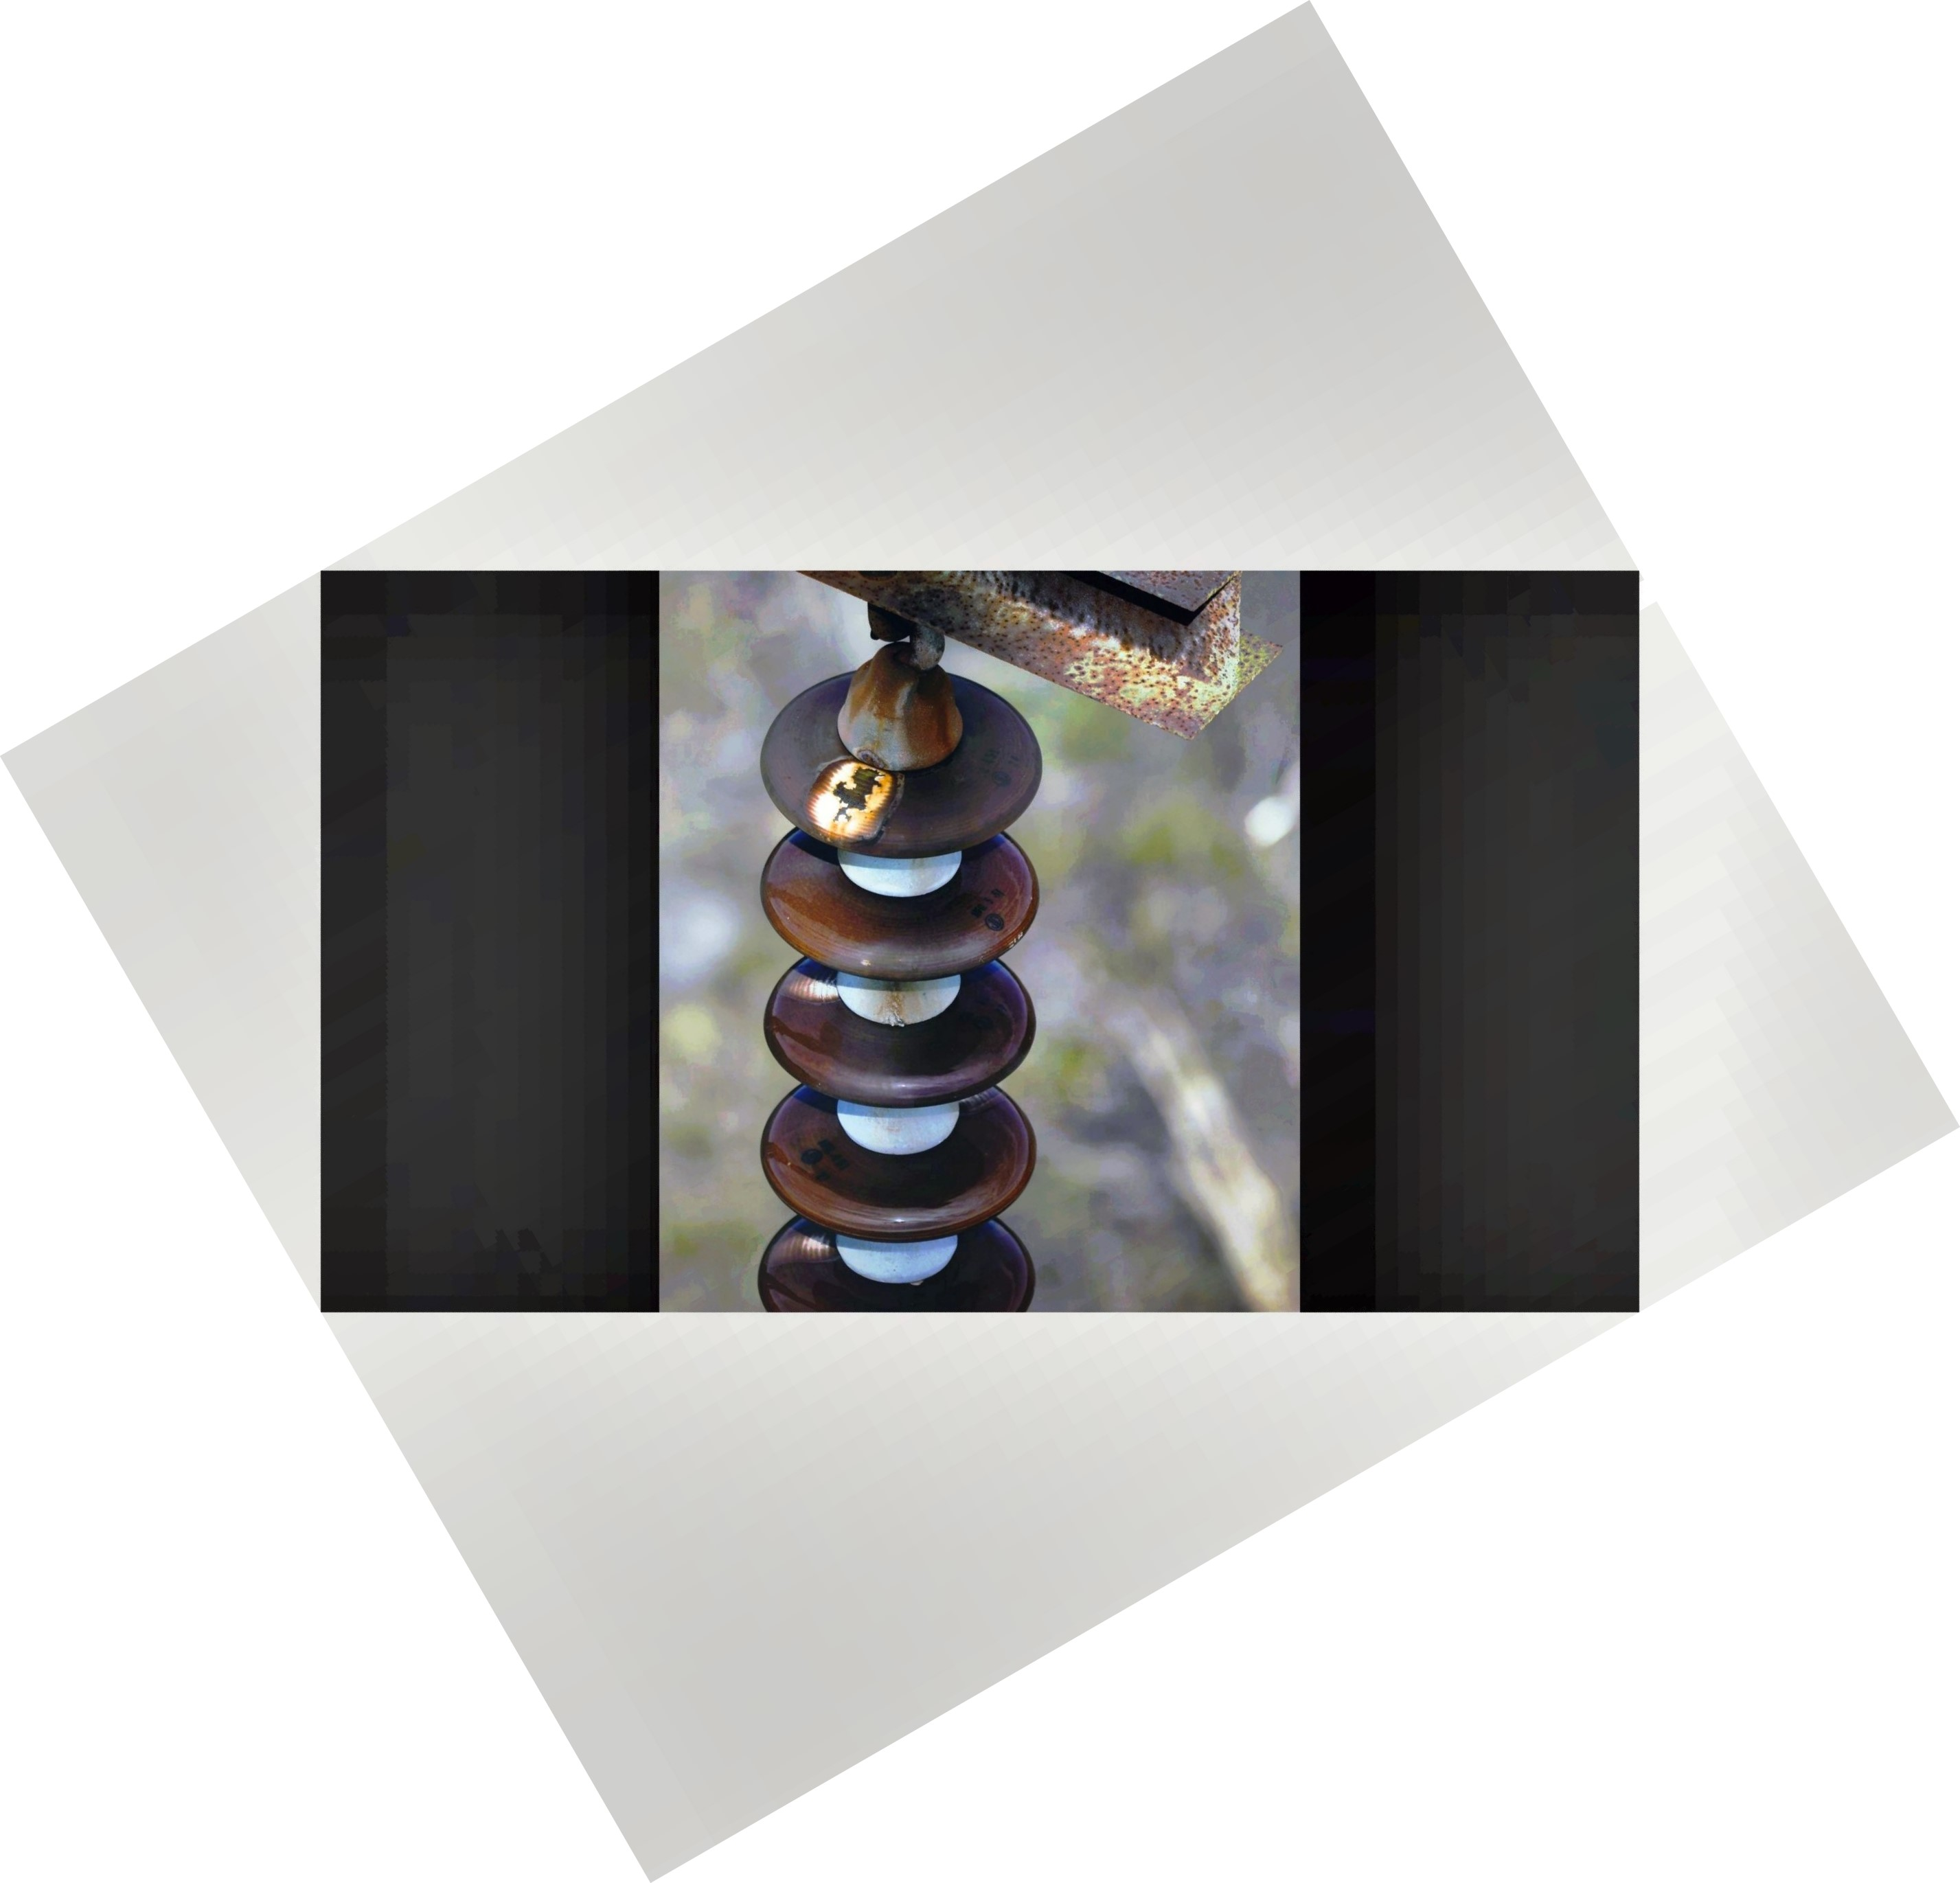Insulator flashover: (733, 655, 1066, 861)
